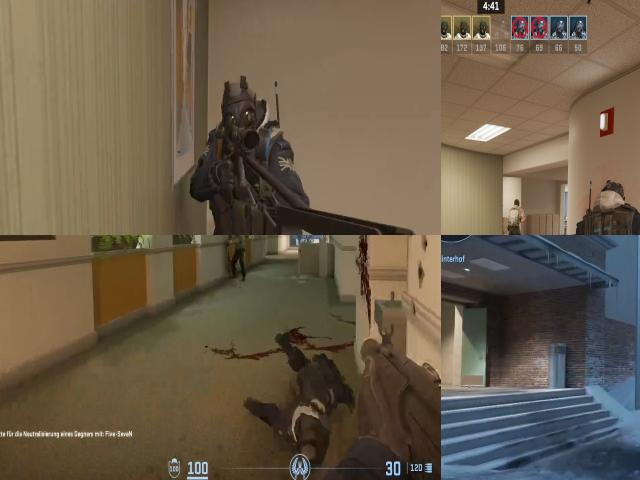CT: (568, 172, 640, 235)
CT-Head: (202, 75, 277, 235), (216, 76, 266, 149), (598, 180, 626, 211)
Dead: (261, 339, 352, 467)
T: (506, 197, 526, 235), (229, 235, 247, 260)
T-Head: (513, 199, 521, 208), (234, 235, 242, 240)
